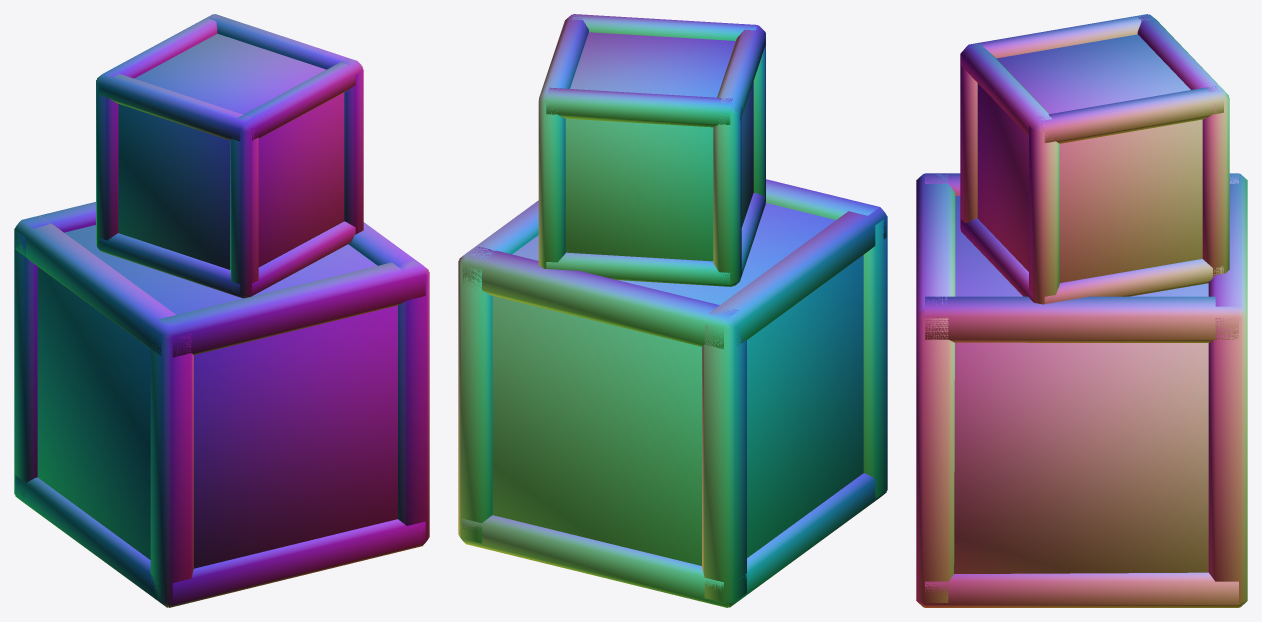
The model's file is SM_Prop_March_SupplyCrate.fbx.
3 views of the same model, side by side, from view 1: azimuth 30°, elevation 25°; view 2: azimuth 150°, elevation 25°; view 3: azimuth 270°, elevation 25° (orthographic). The views are drawn at different scales.
Parts seen in each view (by area): view 1: SM_Prop_March_SupplyCrate; view 2: SM_Prop_March_SupplyCrate; view 3: SM_Prop_March_SupplyCrate.
Boxes of the visible parts, x1,y1,x2,y2 form: SM_Prop_March_SupplyCrate: (14, 14, 429, 607); SM_Prop_March_SupplyCrate: (458, 14, 887, 607); SM_Prop_March_SupplyCrate: (916, 14, 1247, 607).
Bounding box in the file's own units: 0.769 × 1.23 × 0.769.
